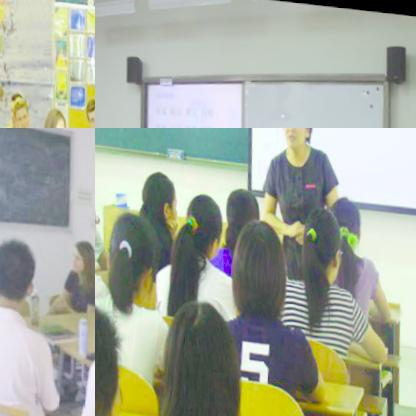head: (152, 295, 246, 416), (221, 211, 284, 313), (99, 208, 156, 304), (294, 198, 341, 279), (95, 289, 124, 416), (0, 231, 38, 313), (179, 187, 221, 261), (132, 167, 181, 230), (323, 187, 364, 256), (218, 181, 261, 246), (65, 235, 95, 275), (1, 85, 23, 128), (275, 128, 317, 150), (8, 93, 30, 128), (37, 105, 70, 128), (80, 93, 95, 128)
